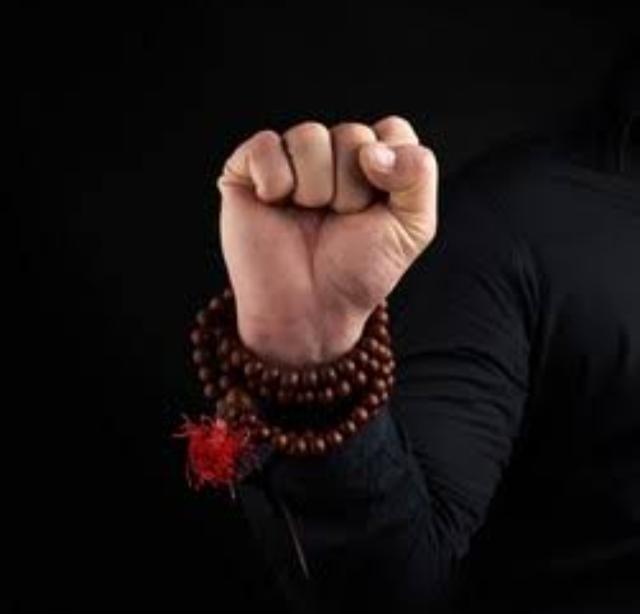mushti: (219, 118, 437, 367)
